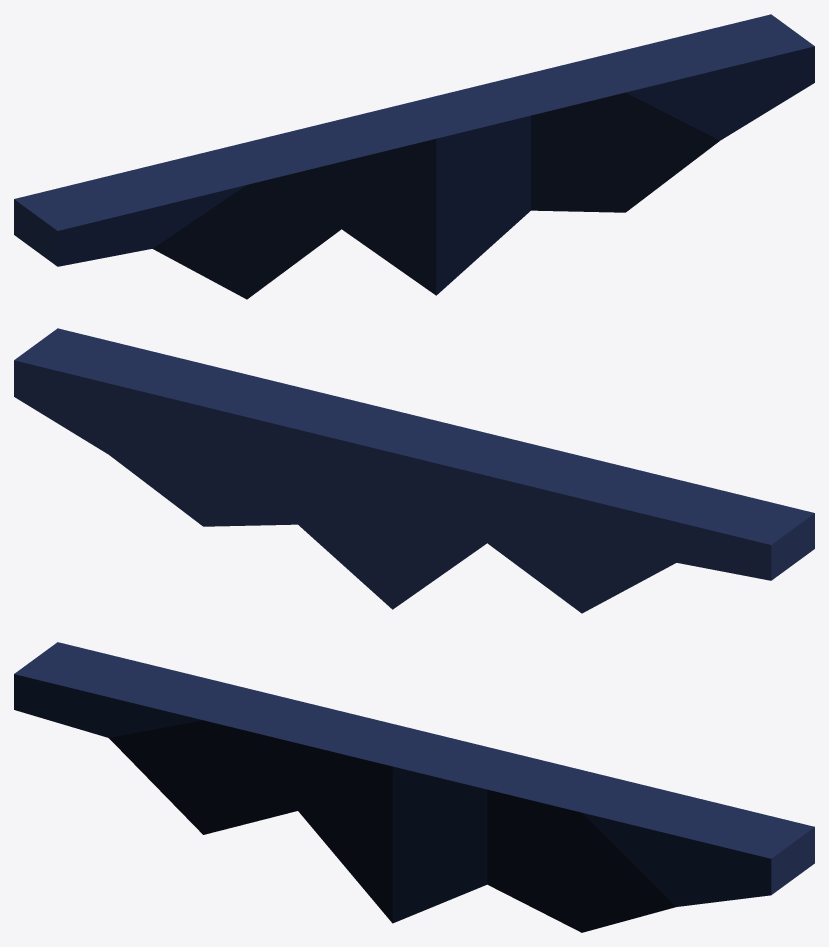
File: normalGroundobj.obj
The picture shows the model from 3 angles, top to bottom: view 1: azimuth 30°, elevation 25°; view 2: azimuth 150°, elevation 25°; view 3: azimuth 330°, elevation 25°; orthographic projection.
Parts seen in each view (by area): view 1: 立方体; view 2: 立方体; view 3: 立方体.
Boxes of the visible parts, box(x1,y1,x2,y2) form: 立方体: box(14, 14, 814, 299); 立方体: box(14, 328, 814, 613); 立方体: box(14, 642, 814, 932).
Size of the model in its own units: 6 by 1.19 by 0.6.
